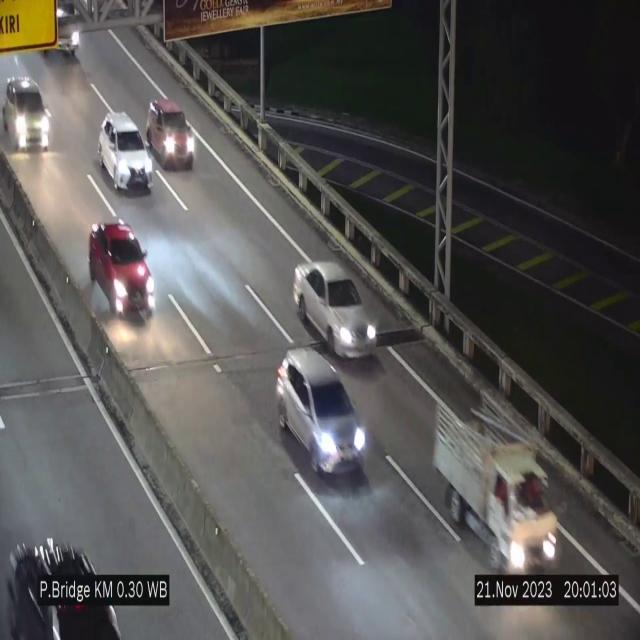Car: (4, 530, 137, 640), (276, 348, 368, 475), (294, 262, 378, 357), (89, 221, 155, 317), (1, 71, 55, 168), (98, 113, 154, 190), (146, 99, 197, 172)
Truck: (437, 396, 564, 574), (36, 0, 84, 66)
